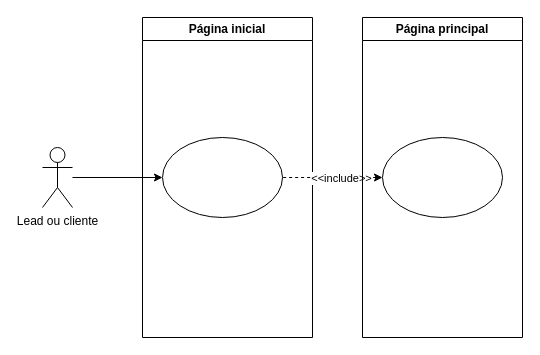
Image size: 540x355. Some labels were removed from this diagram. The shapes that lost their labels are listed below. From the top down, each one's centre as x and y in pixels, then its label:
the point at 222,177: Iniciar Uso da Aplicação
the point at 442,177: Acessar "Gerador SVG"
